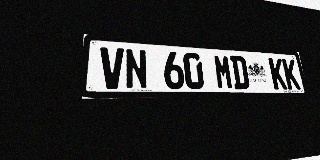0: (183, 52, 204, 89)
6: (163, 51, 185, 89)
D: (230, 55, 250, 89)
K: (268, 58, 287, 89), (282, 59, 301, 89)
M: (213, 54, 234, 89)
N: (125, 48, 148, 89)
V: (100, 47, 125, 89)
